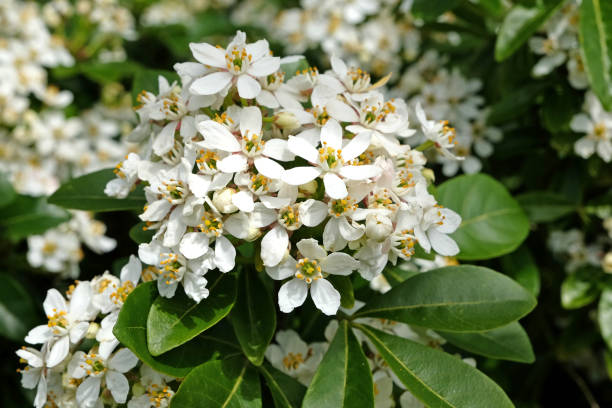flower: (287, 122, 388, 202), (215, 190, 334, 254), (197, 104, 292, 184), (79, 251, 156, 342), (17, 286, 97, 372), (276, 246, 367, 316), (183, 33, 277, 99), (72, 338, 155, 407), (128, 174, 202, 246), (321, 95, 409, 155), (298, 185, 387, 240), (149, 81, 211, 157), (135, 244, 210, 305), (403, 193, 473, 253), (137, 133, 204, 195), (317, 48, 392, 101), (262, 329, 331, 383), (2, 344, 62, 404), (410, 98, 463, 165), (179, 214, 240, 271), (105, 134, 151, 204), (130, 361, 197, 408), (568, 95, 611, 162), (24, 224, 80, 273)
